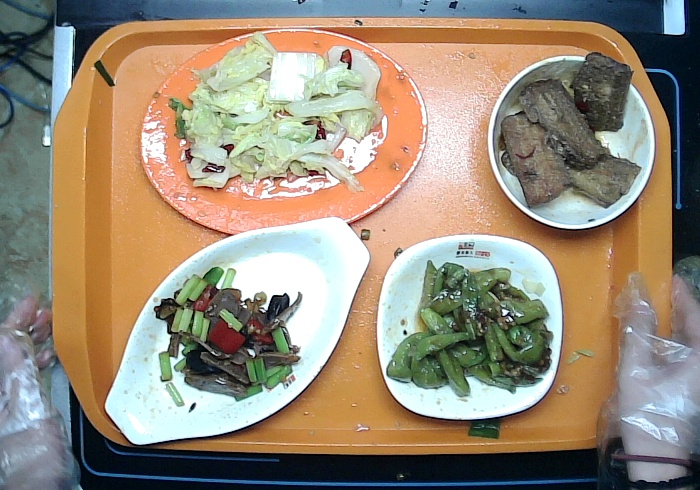NLDX-Bai_Se_Xiao_Fang_Die: (376, 231, 565, 422)
NLDX-Fan_Wan: (486, 55, 656, 230)
NLDX-Ju_Se_Pan: (140, 27, 429, 236)
NLDX-Yu_Pan: (102, 215, 371, 446)
